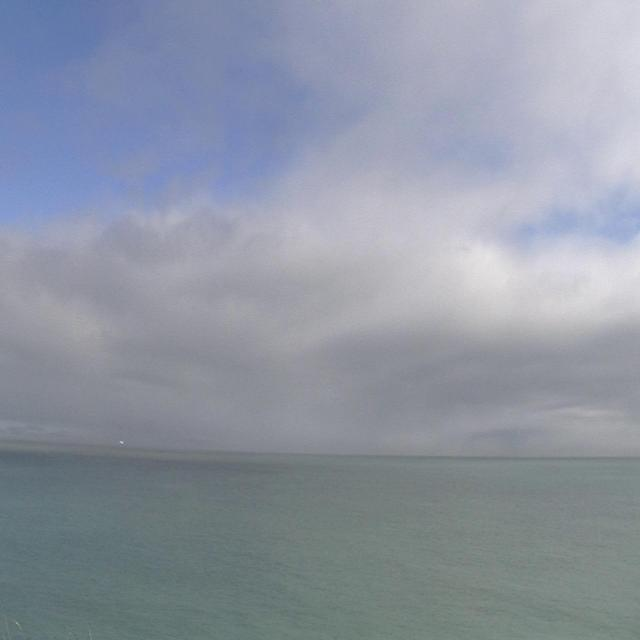drone: (116, 436, 129, 451)
